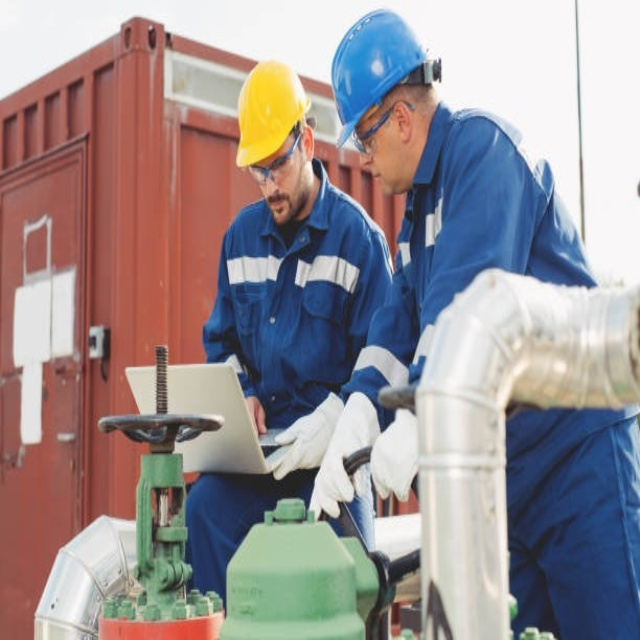Gafas: (350, 97, 417, 156), (247, 129, 302, 188)
Guantes: (305, 387, 383, 516), (272, 384, 341, 478), (369, 398, 419, 499)
Sin_guantes: (243, 394, 266, 439)
Sin_mascara: (363, 163, 395, 195), (260, 193, 289, 221)
